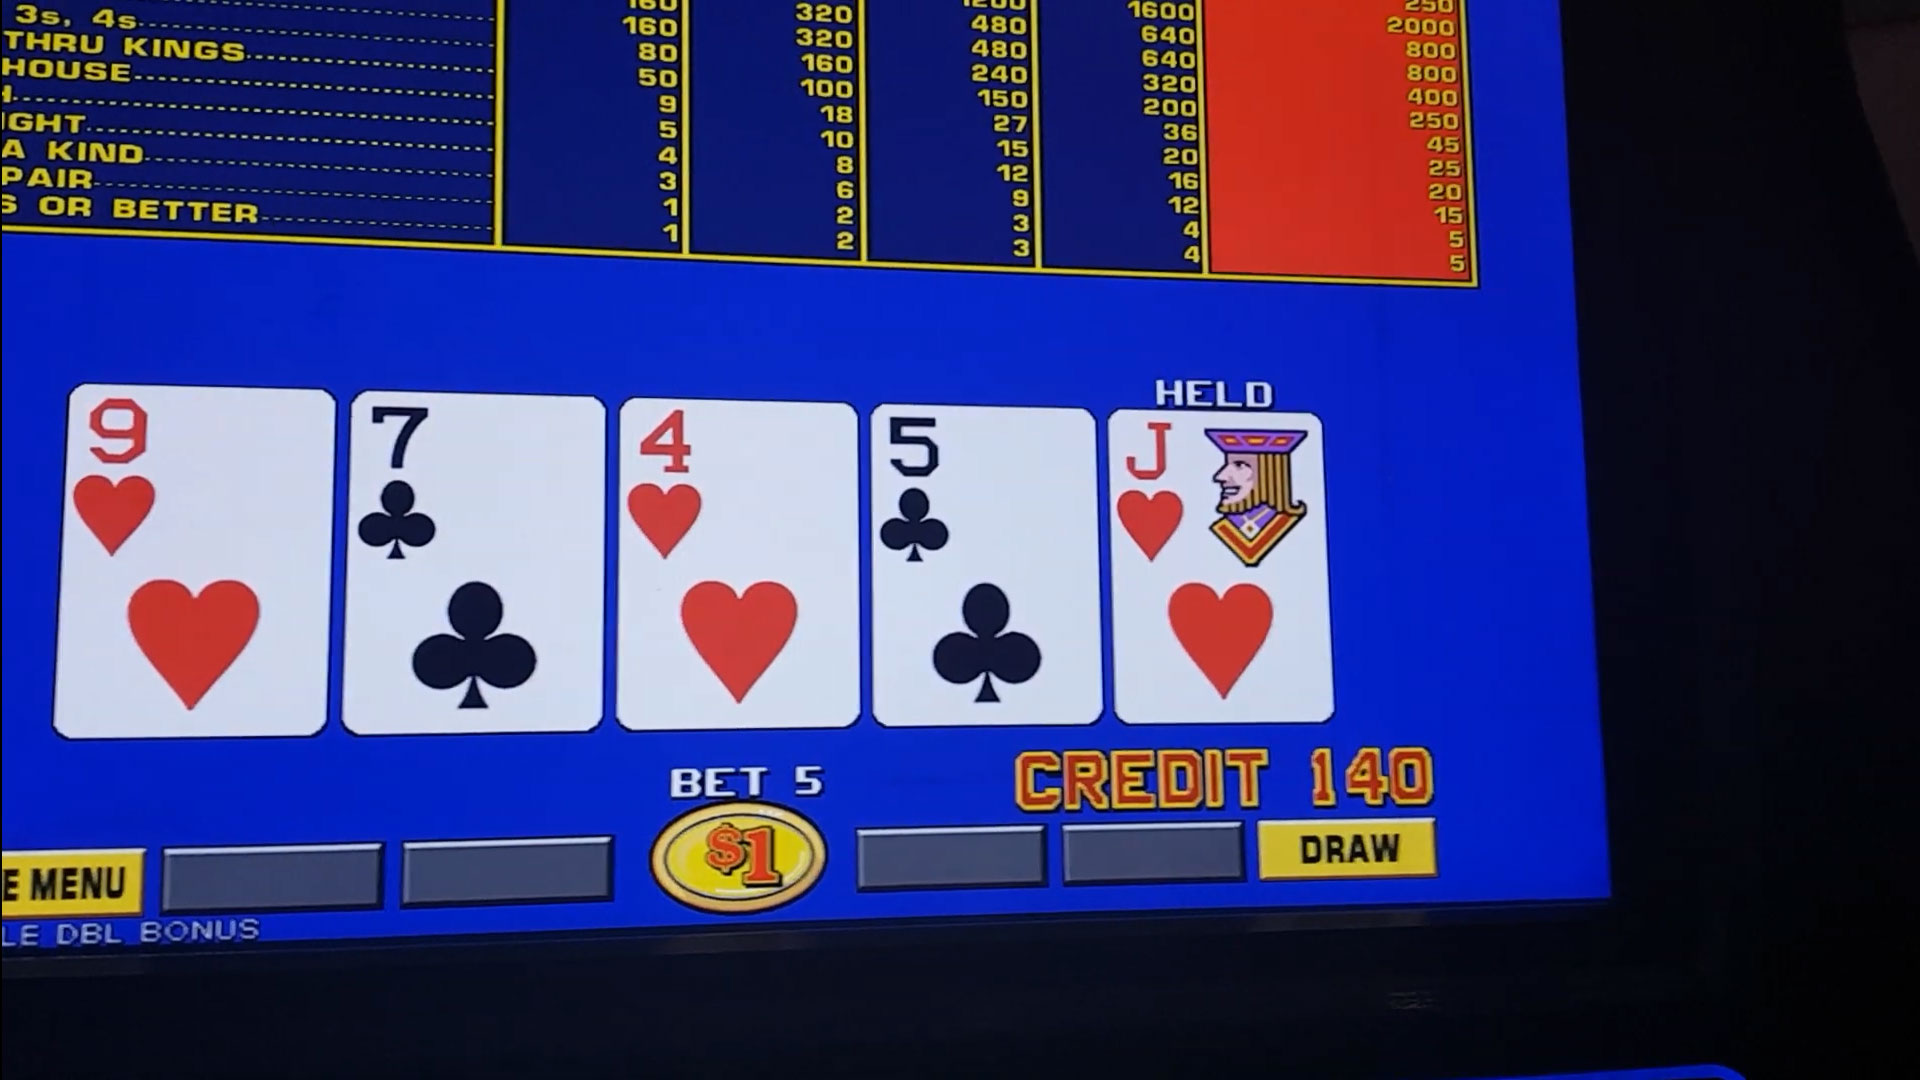C5: (877, 410, 1092, 574)
C7: (359, 396, 597, 563)
H4: (628, 407, 855, 563)
H9: (69, 393, 330, 571)
HJ: (1118, 415, 1323, 574)
